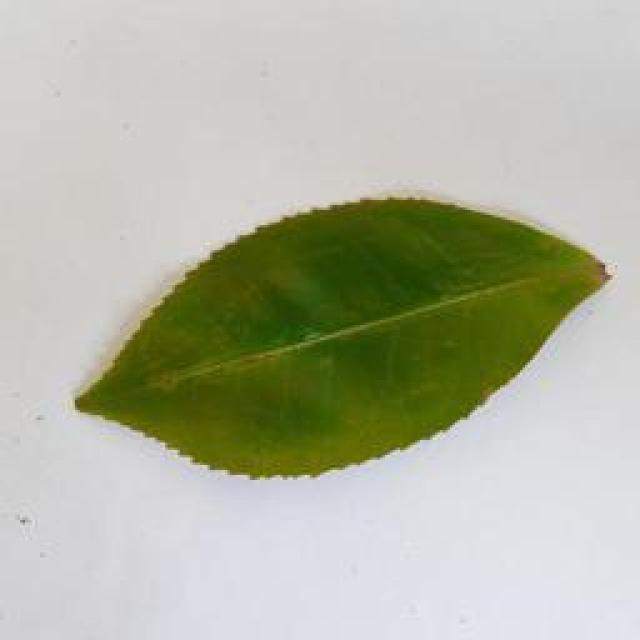Healthy: (75, 181, 618, 473)
